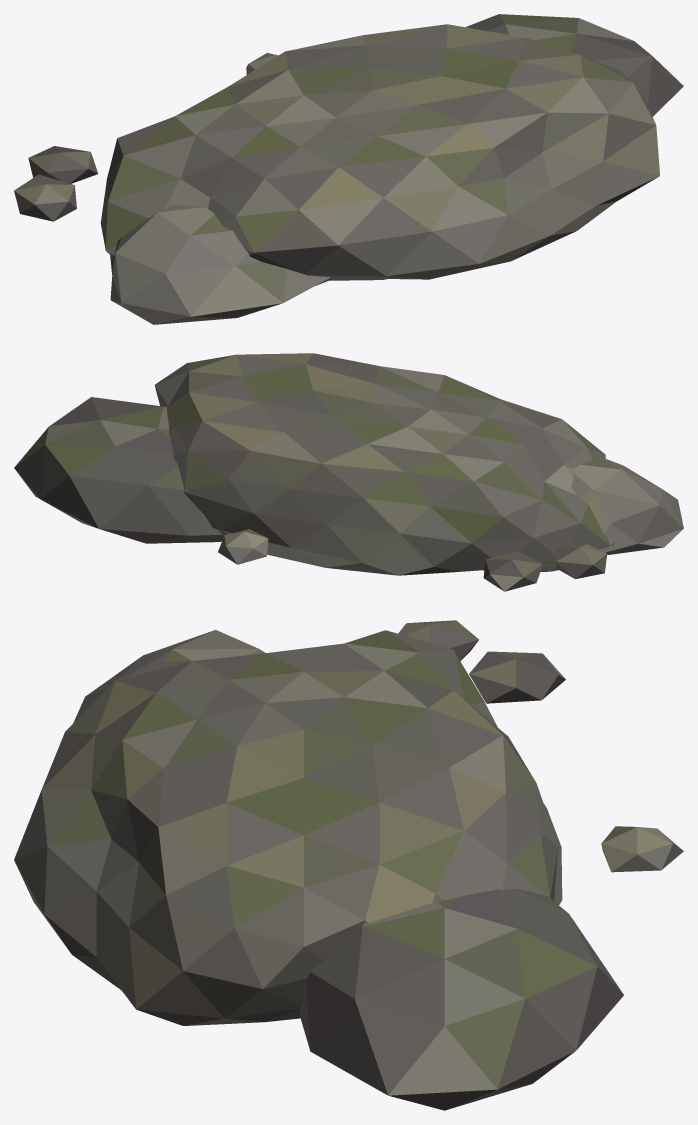
Rendered from env_outcrop_a.glb.
3 renders of one model, top to bottom at view 1: azimuth 30°, elevation 25°; view 2: azimuth 150°, elevation 25°; view 3: azimuth 270°, elevation 25°, orthographic. The views are drawn at different scales.
Parts seen in each view (by area): view 1: env_outcrop_a; view 2: env_outcrop_a; view 3: env_outcrop_a.
Boxes of the visible parts, x1=… form: env_outcrop_a: x1=14, y1=14, x2=683, y2=324; env_outcrop_a: x1=14, y1=353, x2=683, y2=591; env_outcrop_a: x1=14, y1=620, x2=683, y2=1110.
Bounding box in the file's own units: 11.58 × 2.39 × 7.61.
